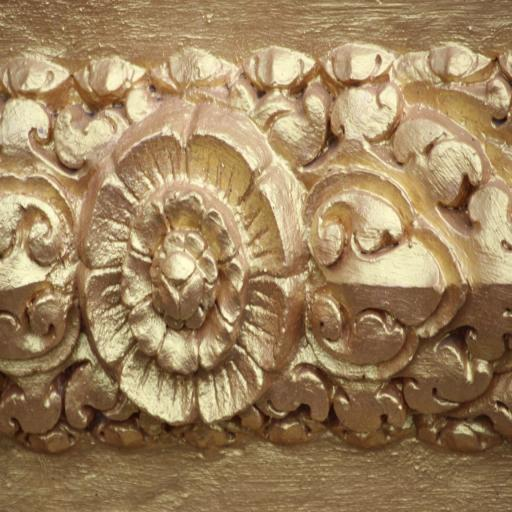hoa: (90, 112, 293, 422)
la: (293, 128, 512, 440), (0, 118, 98, 436)
